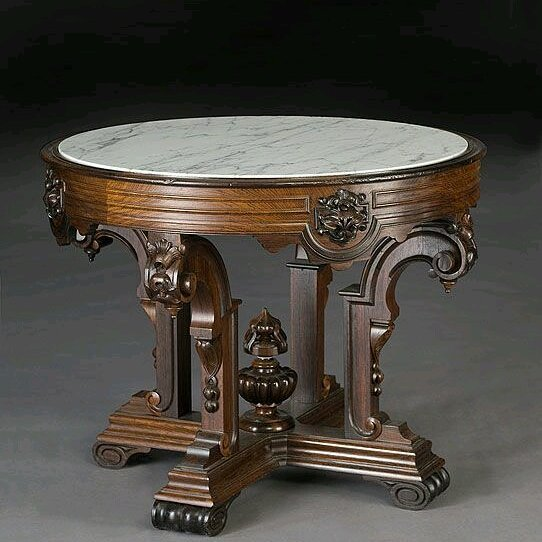Carving Table: (53, 123, 478, 535)
